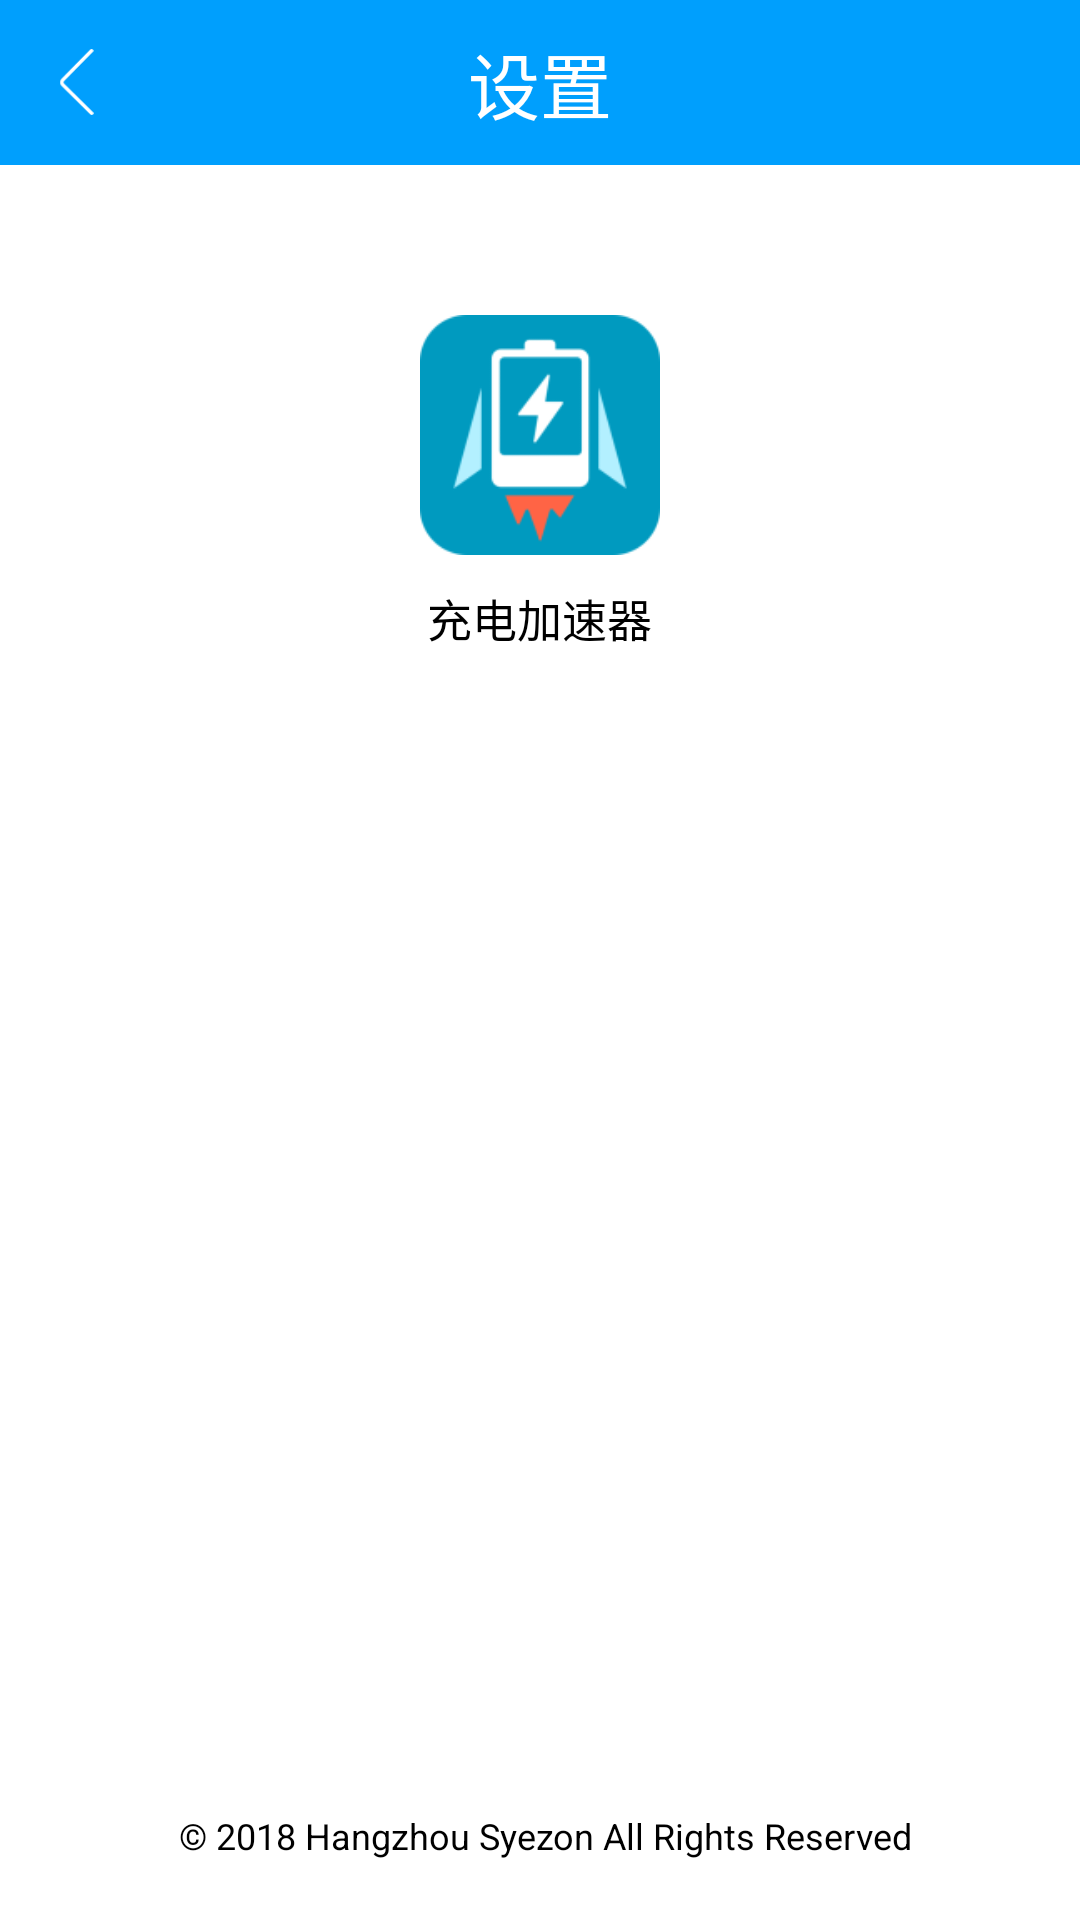

Icon bounding boxes for this 1080 x 1920 phone screenshot, format (x1, y1, x2, y2):
back: (60, 49, 94, 115)
